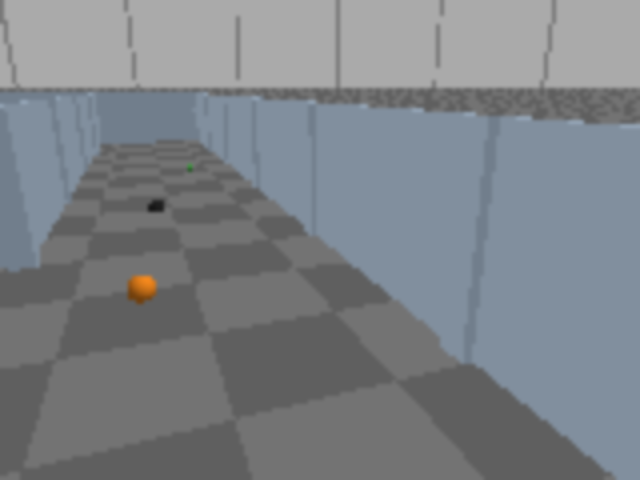puck: (119, 270, 162, 308)
